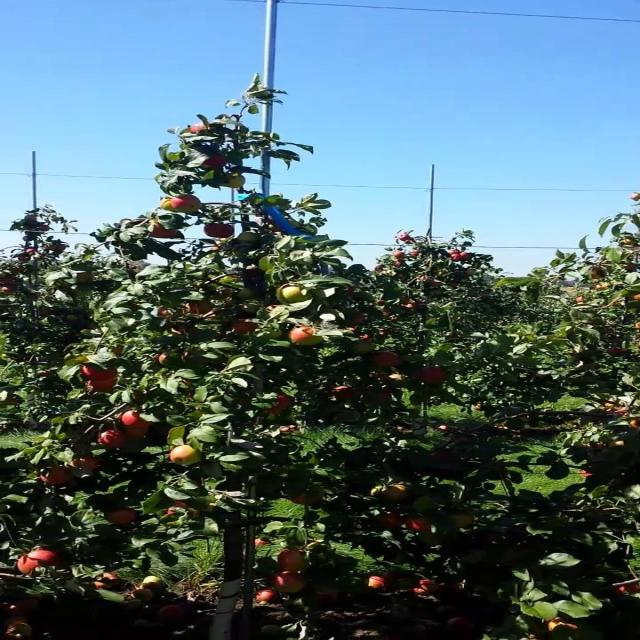apple: (20, 552, 64, 574), (269, 572, 308, 594), (547, 620, 583, 640), (276, 552, 311, 572), (170, 448, 204, 467), (291, 328, 324, 347), (262, 396, 292, 416), (42, 468, 73, 487), (383, 484, 414, 503), (369, 352, 405, 368), (84, 364, 119, 380), (70, 456, 103, 472), (84, 376, 117, 392), (177, 196, 206, 214), (376, 512, 405, 530), (447, 512, 476, 530), (404, 516, 434, 533), (120, 412, 151, 428), (99, 432, 128, 449), (205, 224, 235, 240), (148, 224, 178, 240), (284, 288, 313, 304), (419, 368, 448, 384), (106, 512, 139, 526), (291, 492, 324, 506), (412, 496, 439, 512), (156, 352, 192, 364), (419, 532, 446, 547), (234, 320, 258, 335), (355, 340, 377, 356), (156, 308, 183, 320), (604, 404, 631, 416), (333, 388, 357, 400), (92, 380, 116, 392), (191, 304, 215, 316), (205, 156, 228, 168), (604, 400, 622, 415), (227, 176, 249, 188), (127, 428, 149, 440), (127, 424, 149, 436), (241, 232, 261, 244), (618, 584, 638, 596), (170, 504, 190, 515), (383, 376, 407, 385), (156, 352, 174, 364), (348, 312, 364, 325), (163, 200, 180, 212), (241, 288, 258, 300), (241, 304, 261, 314), (262, 260, 276, 272), (376, 392, 393, 401), (191, 124, 208, 133), (276, 428, 299, 434), (362, 336, 375, 341)
